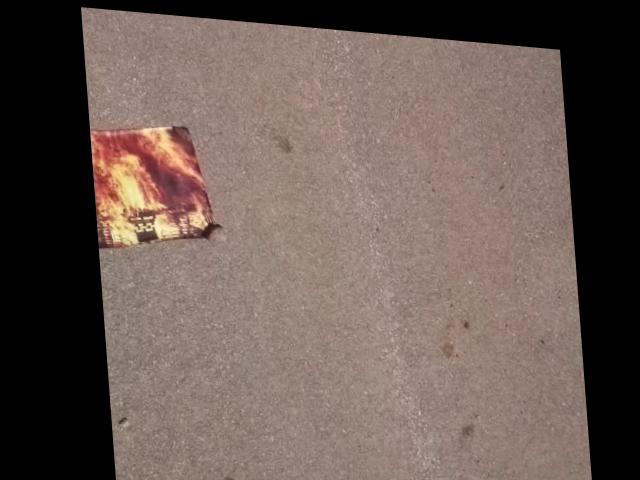fire-poster: (87, 114, 226, 260)
